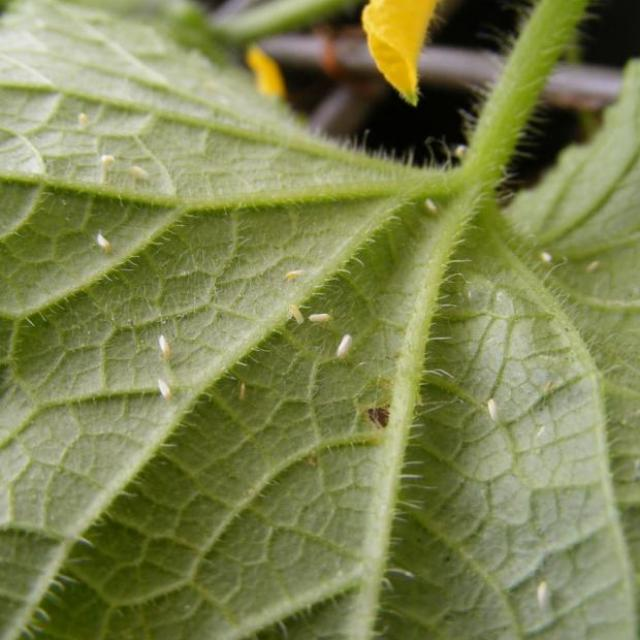Whitefly: (256, 248, 362, 388), (522, 222, 608, 293), (130, 308, 182, 418), (458, 376, 520, 452), (504, 566, 575, 632), (79, 208, 136, 274), (400, 184, 461, 228)
